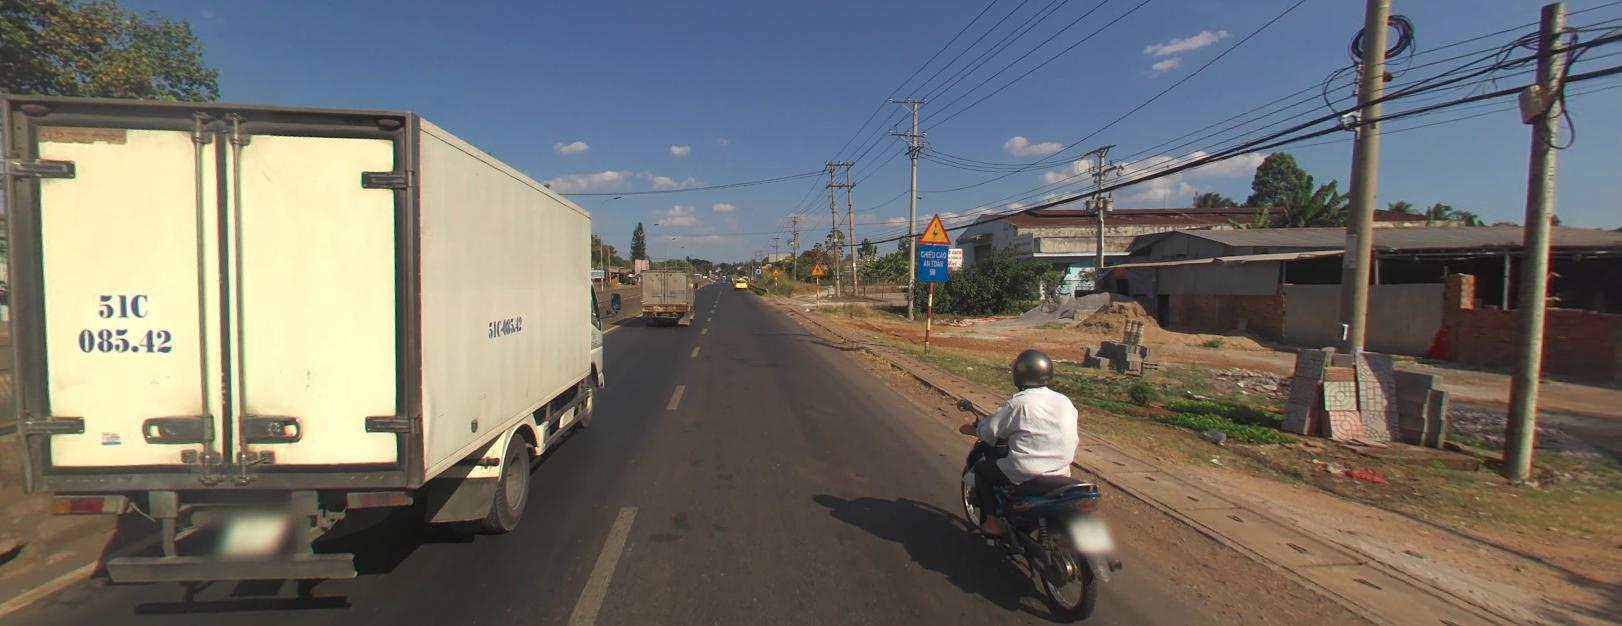Nguy hiem: (918, 211, 952, 242), (809, 260, 825, 274), (771, 266, 779, 274)
